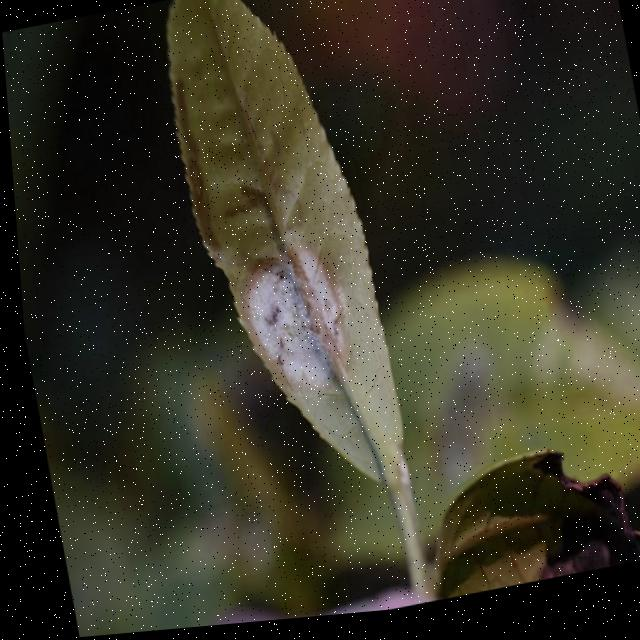Tea cake: (233, 251, 354, 404)
